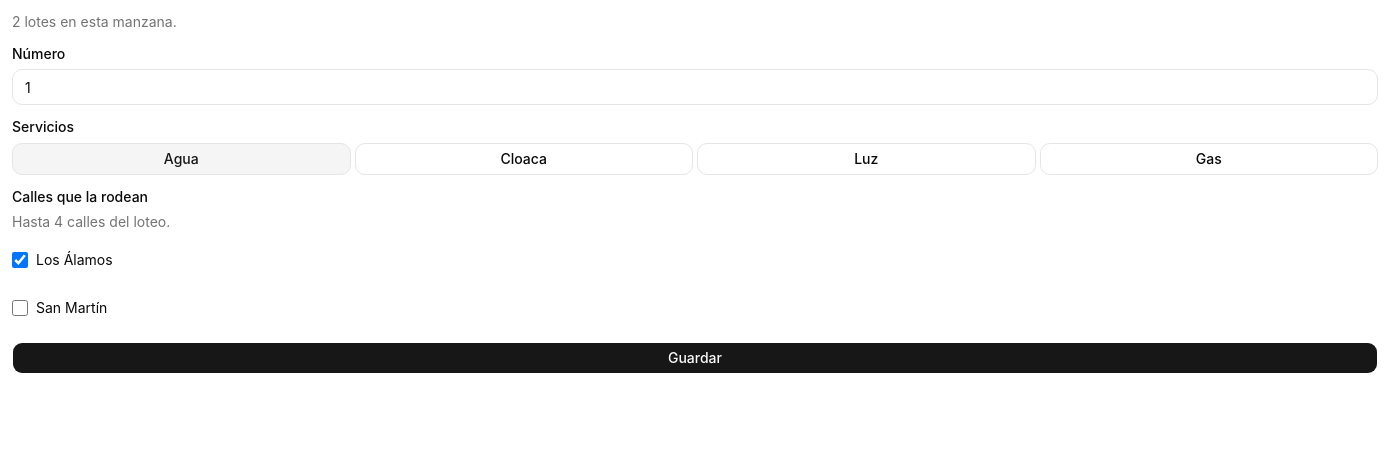
ManzanaEditForm › loads and saves the manzana values
The width and height of the screenshot is (1390, 452).
Expected: the text "2 lotes en esta manzana." is shown, [12,13,177,30]
Expected: the checkbox labelled "Los Álamos" is checked, [12,252,28,268]
Replace the text in the field labelled "Número" with "B" at (695, 87), box [12,69,1378,105]
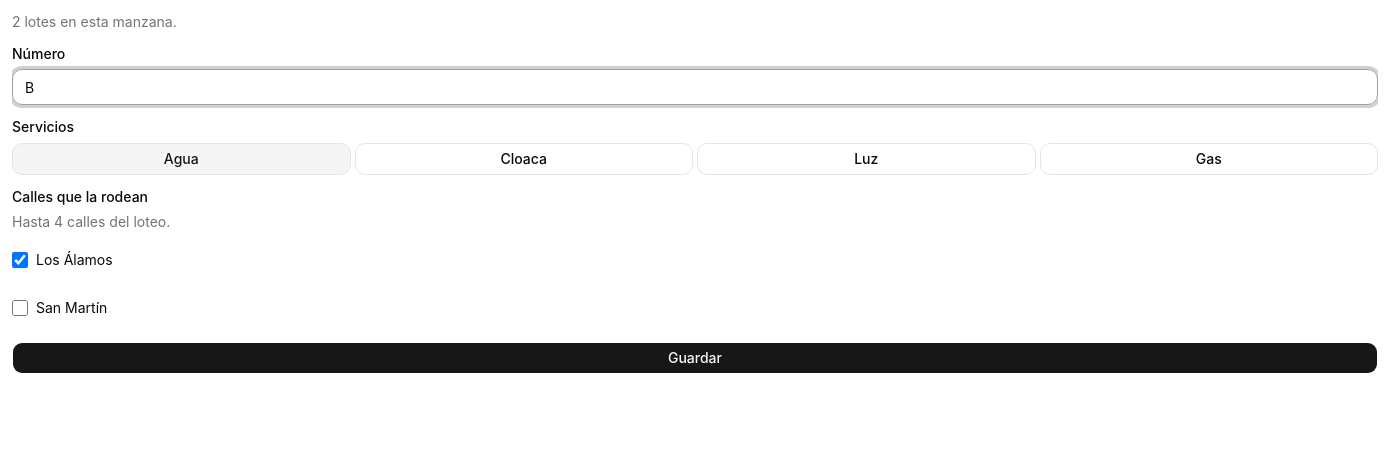
Click the button "Luz".
click(866, 158)  # box [697,142,1036,174]
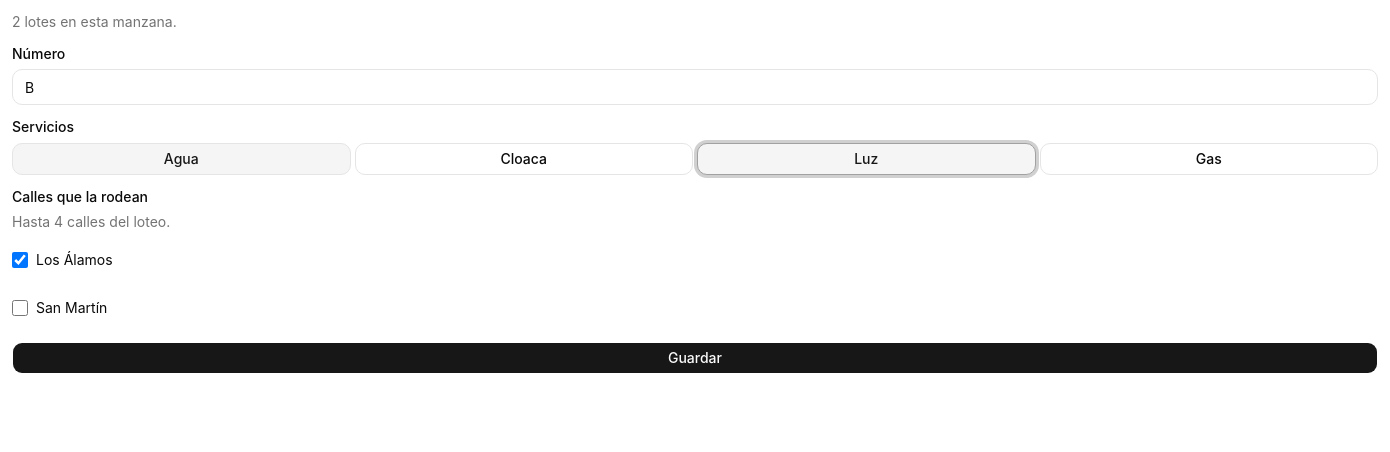
Click the checkbox labelled "San Martín".
click(20, 308)  # box [12,300,28,316]
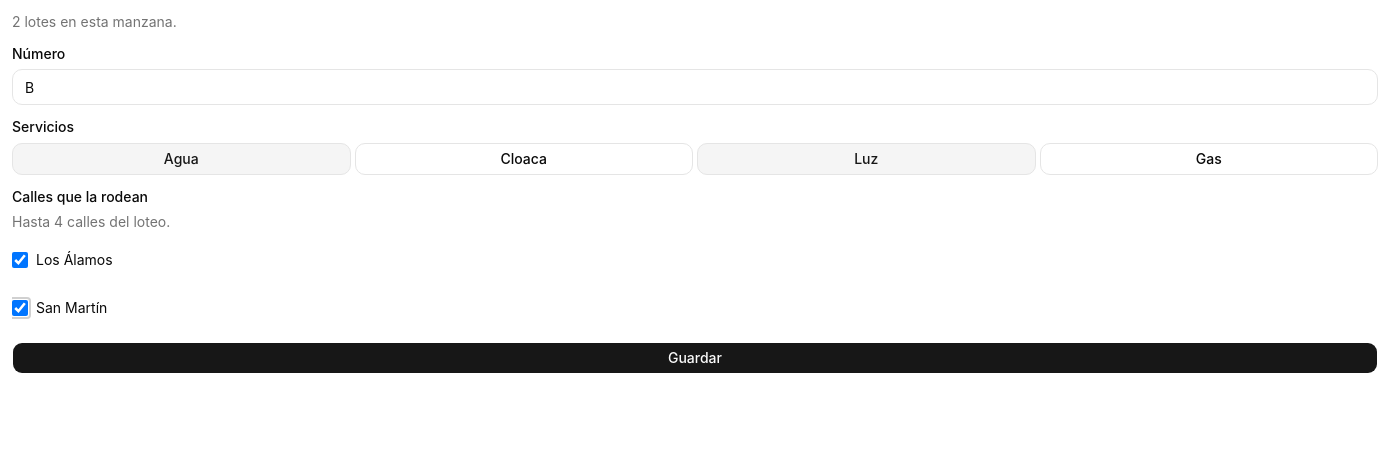
Click the button "Guardar".
click(695, 358)  # box [12,342,1378,374]
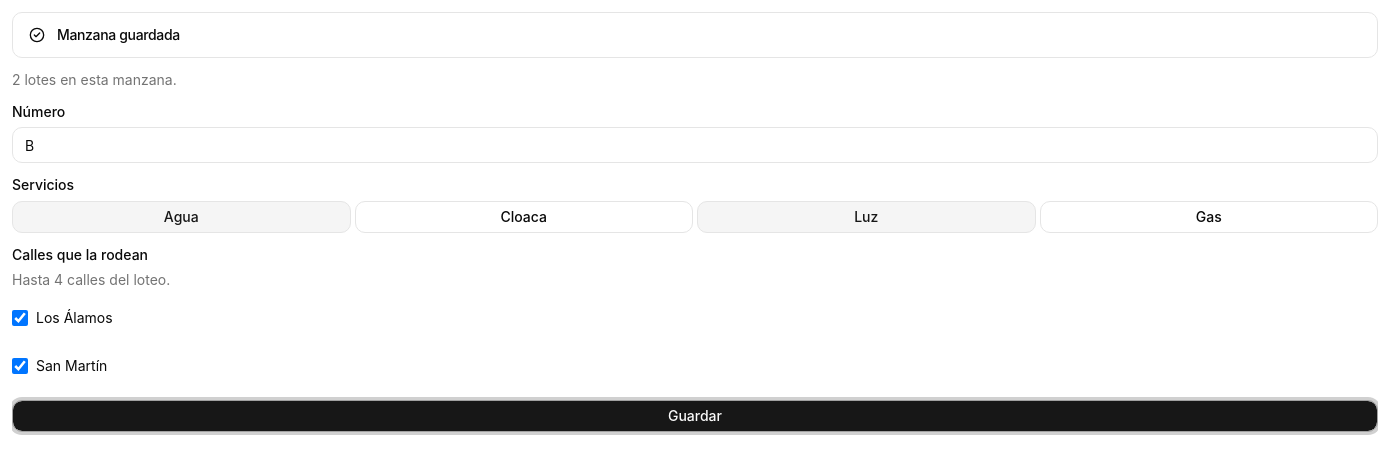
Expected: the message reads "Manzana guardada", [57,26,180,43]
